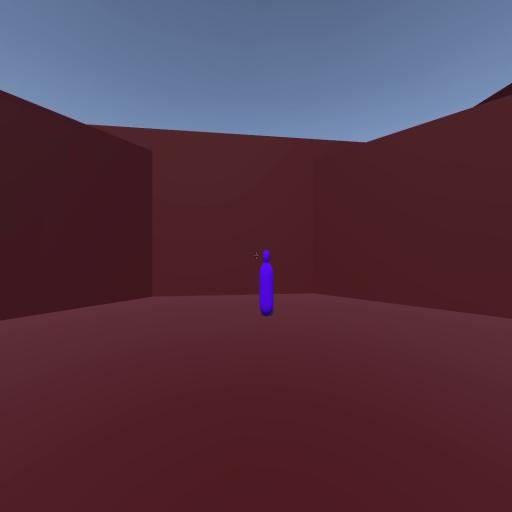Crosshair: (254, 252, 258, 260)
Target: (259, 249, 274, 316)
